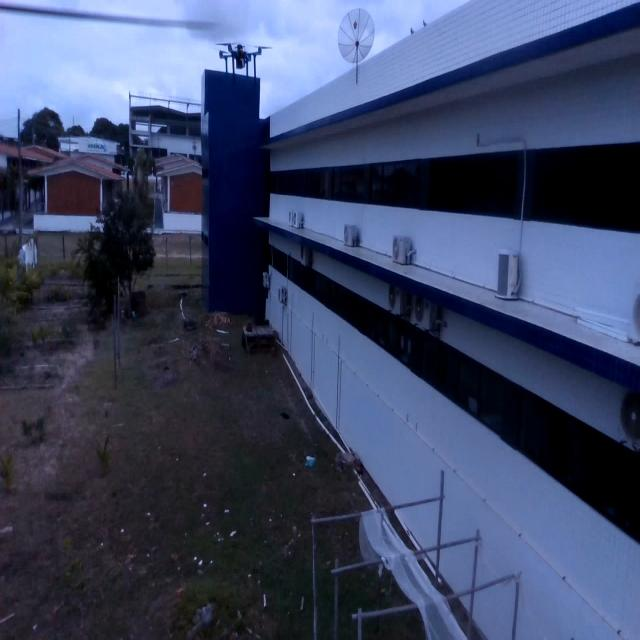-uav-: (209, 37, 277, 89)
